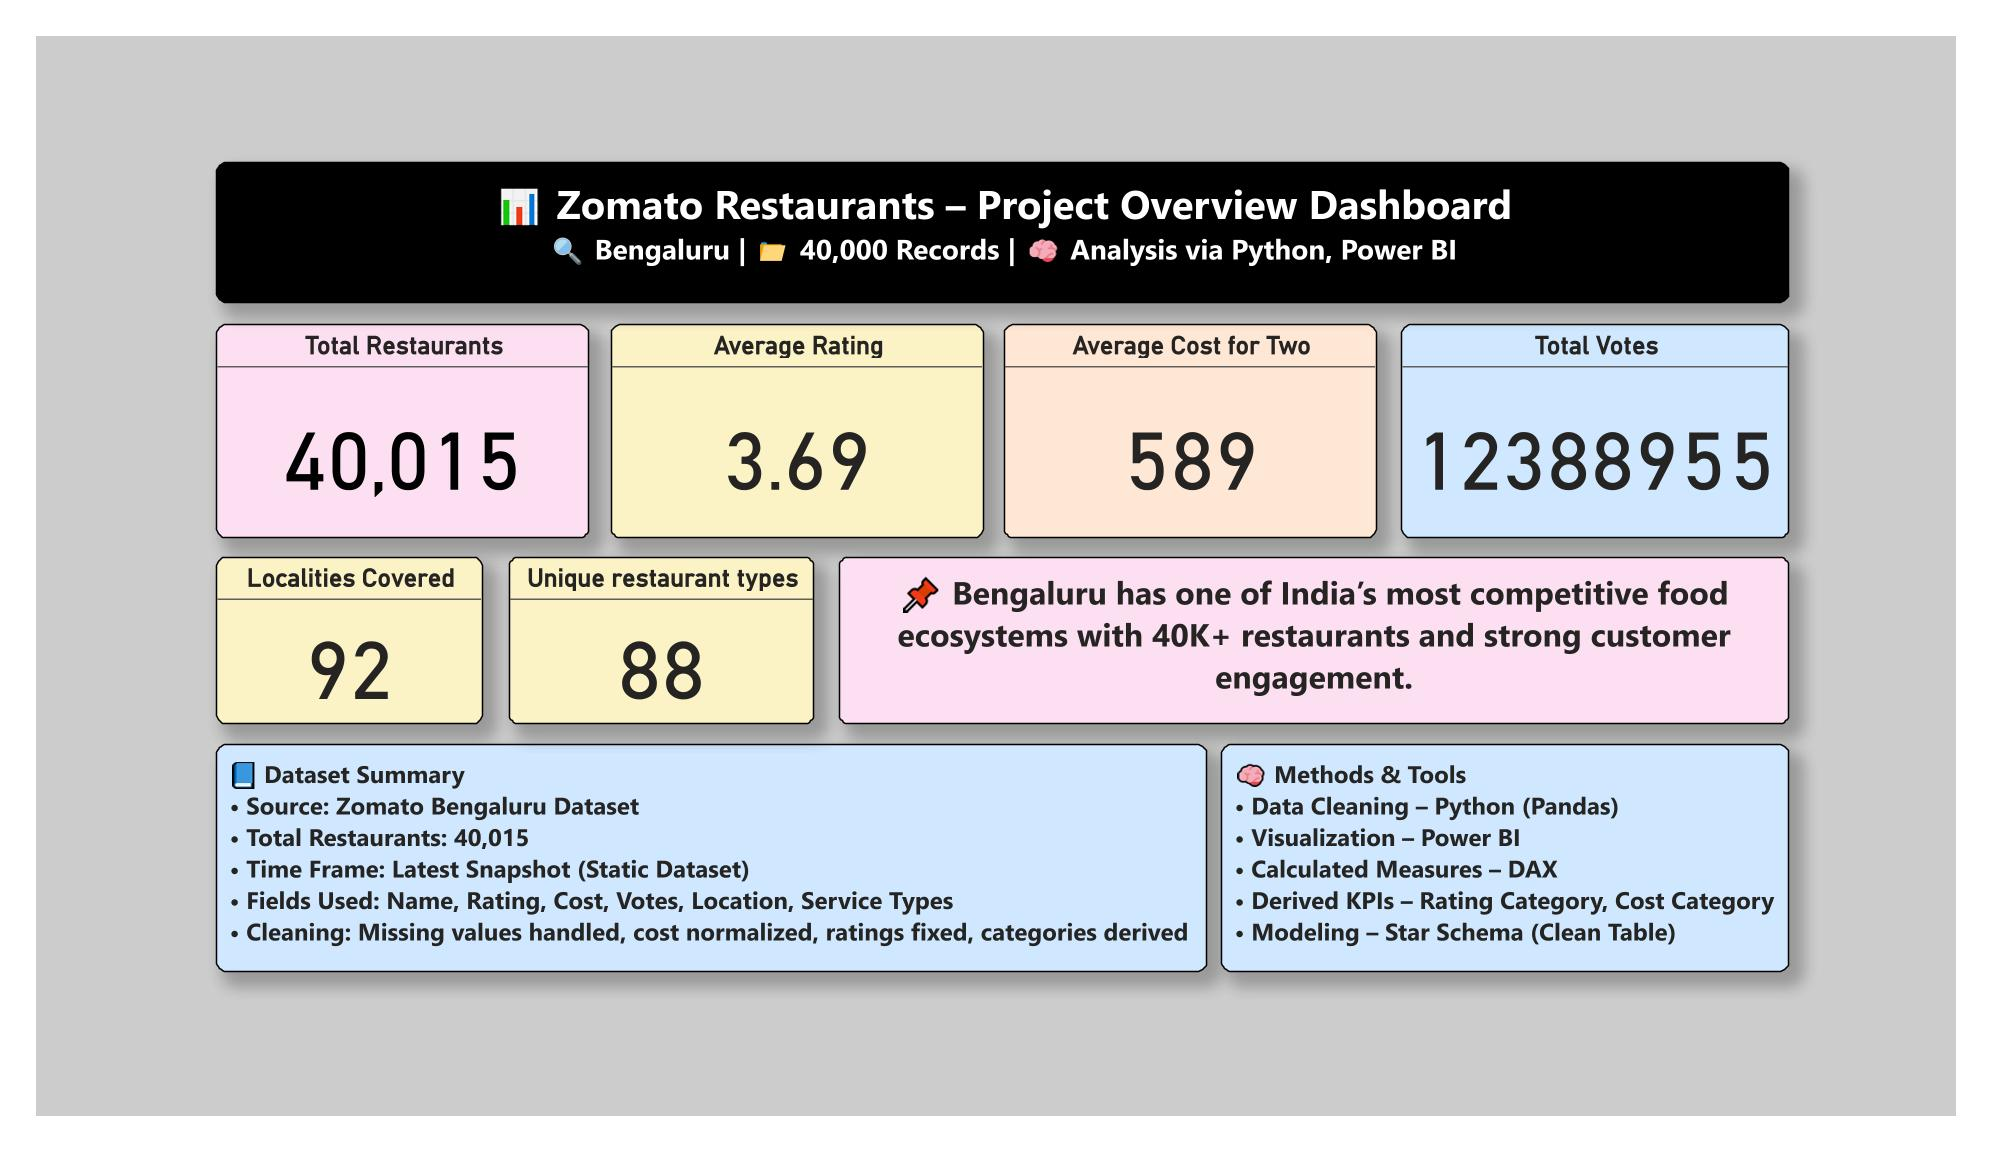

The page's visual inventory and layout, read from the dashboard file:
{"tool":"powerbi","page":{"name":"Project Overview","canvas":[1280,720],"ordinal":0},"visuals":[{"type":"card","title":"Total Restaurants","fields":{"Values":["CountNonNull(03_zomato_clean.name)"]},"box":[120,193.3,249,143],"z":0},{"type":"card","title":"Average Rating","fields":{"Values":["Avg(03_zomato_clean.rate)"]},"box":[383,193.3,249,143],"z":1000},{"type":"card","title":"Average Cost for Two","fields":{"Values":["Avg(03_zomato_clean.approx_cost(for two people))"]},"box":[645,193.3,249,143],"z":2000},{"type":"card","title":"Total Votes","fields":{"Values":["Sum(03_zomato_clean.votes)"]},"box":[910,193.3,259,143],"z":3000},{"type":"textbox","box":[120.4,85.2,1049,94],"z":4000},{"type":"card","title":"Localities Covered","fields":{"Values":["03_zomato_clean.Localities Covered"]},"box":[120.4,348.2,178,112],"z":5000},{"type":"textbox","box":[535.4,348.2,634,112],"z":6000},{"type":"textbox","box":[120.4,473.2,661,152],"z":7000},{"type":"textbox","box":[790.4,473.2,379,152],"z":8000},{"type":"card","title":"Unique restaurant types","fields":{"Values":["03_zomato_clean.Distinct_Restaurant_Types"]},"box":[315.4,348.2,204,112],"z":9000}]}

Visuals, with their boxes in screenshot pixels (x1, y1, x2, y2), scaled from the page's 1280x720 canvas onto the 1992x1152 screenshot:
"Total Restaurants" card: <region>187, 309, 574, 538</region>
"Average Rating" card: <region>596, 309, 984, 538</region>
"Average Cost for Two" card: <region>1004, 309, 1391, 538</region>
"Total Votes" card: <region>1416, 309, 1819, 538</region>
textbox: <region>187, 136, 1820, 287</region>
"Localities Covered" card: <region>187, 557, 464, 736</region>
textbox: <region>833, 557, 1820, 736</region>
textbox: <region>187, 757, 1216, 1000</region>
textbox: <region>1230, 757, 1820, 1000</region>
"Unique restaurant types" card: <region>491, 557, 808, 736</region>
